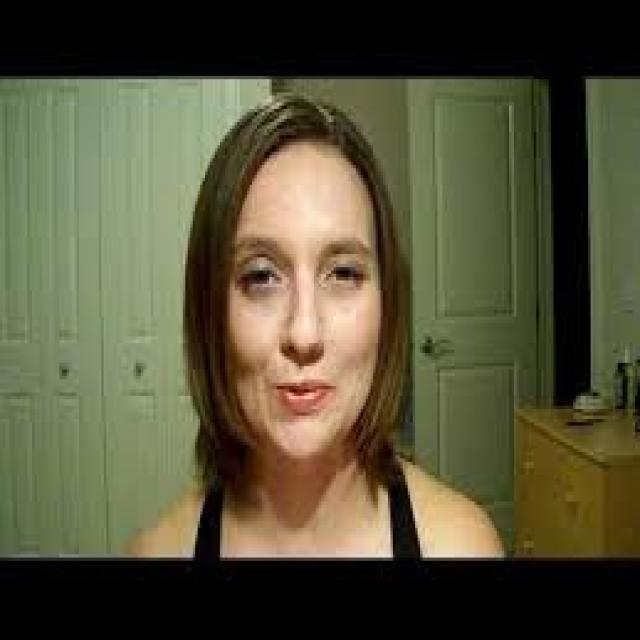normal_face: (178, 105, 437, 496)
